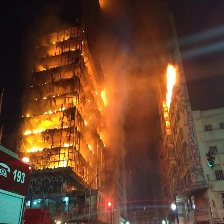fire: (18, 90, 116, 169), (161, 65, 177, 112)
smoke: (106, 6, 158, 104)
